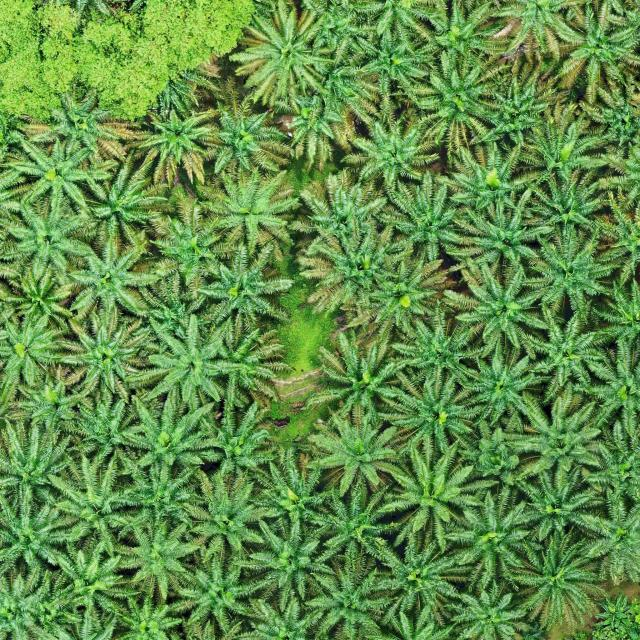Tree: (288, 208, 413, 320), (373, 443, 494, 556), (368, 353, 486, 459), (0, 126, 129, 222), (338, 244, 464, 342), (106, 379, 218, 489), (192, 158, 310, 262), (115, 78, 222, 191), (228, 2, 336, 113), (504, 82, 616, 189), (444, 478, 547, 594), (443, 178, 560, 280), (140, 194, 238, 312), (191, 233, 300, 339), (225, 508, 336, 612), (510, 303, 620, 407), (41, 447, 144, 558), (513, 217, 622, 321), (63, 220, 165, 329), (128, 304, 236, 406), (499, 530, 603, 635), (442, 261, 550, 360), (337, 98, 443, 198), (434, 136, 547, 227), (200, 312, 296, 419), (67, 160, 173, 256), (51, 306, 150, 408), (399, 52, 495, 157), (309, 472, 406, 573), (40, 534, 142, 630), (106, 442, 208, 538), (303, 550, 409, 640), (506, 394, 612, 483), (190, 390, 286, 488), (182, 464, 278, 560), (172, 543, 270, 637), (372, 538, 474, 628), (310, 330, 410, 420), (245, 445, 332, 548), (374, 168, 465, 266), (200, 98, 298, 189), (303, 408, 402, 498), (0, 413, 78, 526), (291, 166, 395, 250), (112, 513, 206, 605), (555, 0, 640, 101), (2, 202, 94, 294), (452, 348, 544, 436), (509, 460, 609, 540), (477, 68, 572, 150), (0, 496, 83, 588), (413, 0, 518, 71), (0, 304, 66, 408), (352, 23, 436, 104), (577, 484, 640, 588), (526, 169, 608, 248), (296, 31, 378, 106), (57, 390, 150, 455), (278, 84, 342, 173), (448, 582, 539, 640), (459, 421, 533, 490)
